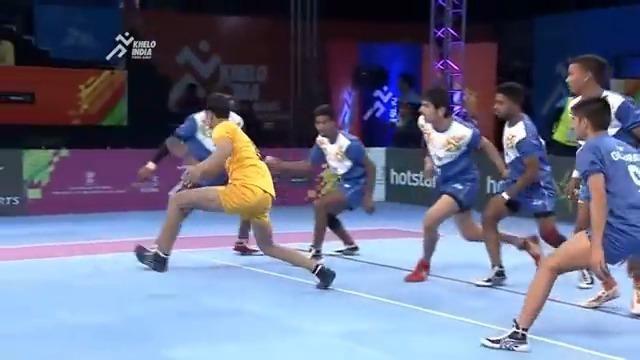Player: (401, 84, 539, 288), (473, 80, 588, 291), (562, 53, 639, 289), (304, 103, 377, 260)
Raider: (133, 92, 337, 292)
